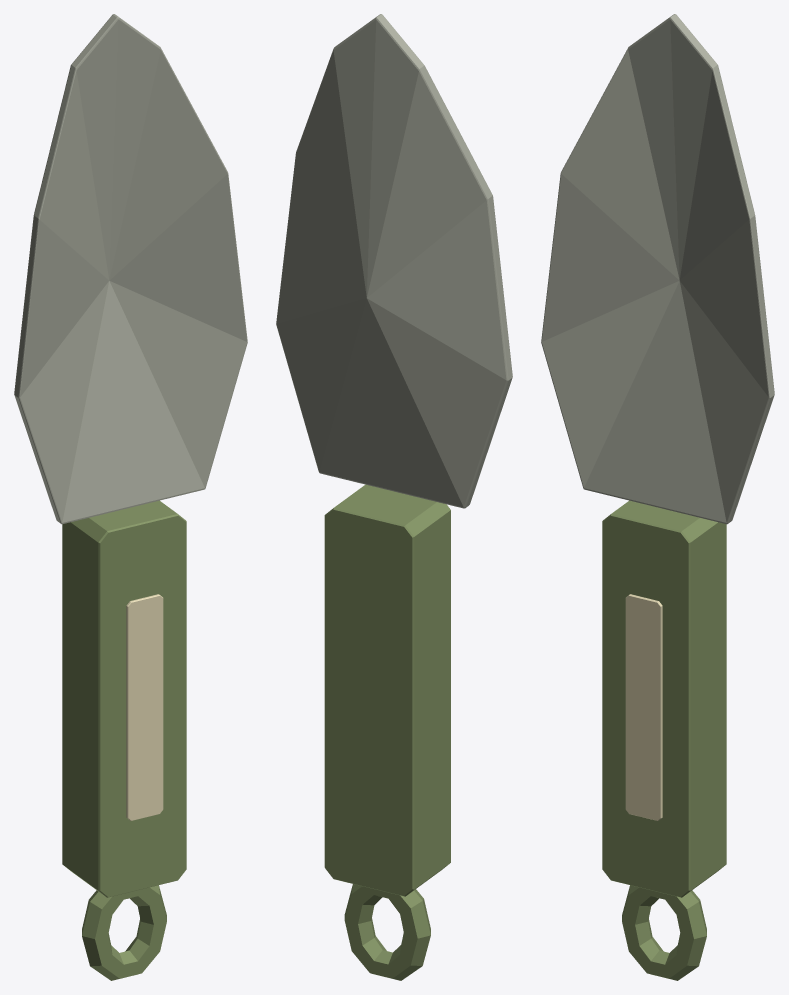
Rendered from hand_trowel.glb.
3 views of the same model, side by side, from view 1: azimuth 30°, elevation 25°; view 2: azimuth 150°, elevation 25°; view 3: azimuth 330°, elevation 25° (orthographic).
Visible parts, largest first — view 1: hand_trowel; view 2: hand_trowel; view 3: hand_trowel.
Boxes of the visible parts, box(x1,y1,x2,y2) form: hand_trowel: box(14, 14, 247, 980); hand_trowel: box(276, 14, 512, 980); hand_trowel: box(541, 14, 774, 980).
Size of the model in its own units: 0.07 by 0.279 by 0.0223.
